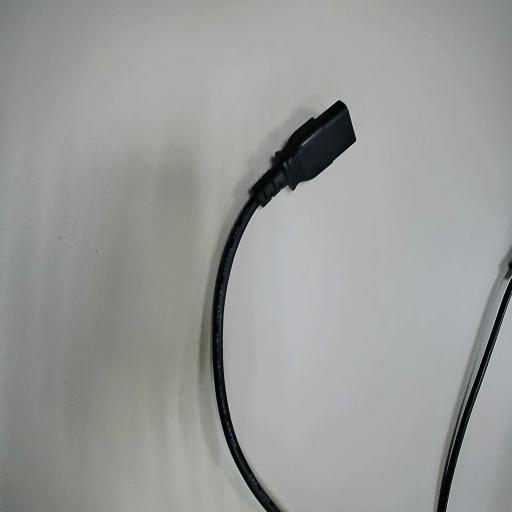wire: (211, 101, 354, 511)
